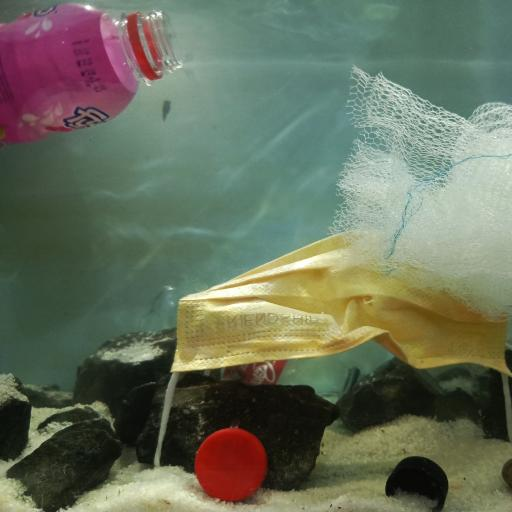bottle_cap: (194, 426, 268, 502), (385, 454, 449, 512)
mask: (172, 223, 510, 380)
net: (330, 61, 512, 328)
plastic_bottle: (2, 2, 180, 142), (158, 276, 366, 394)
